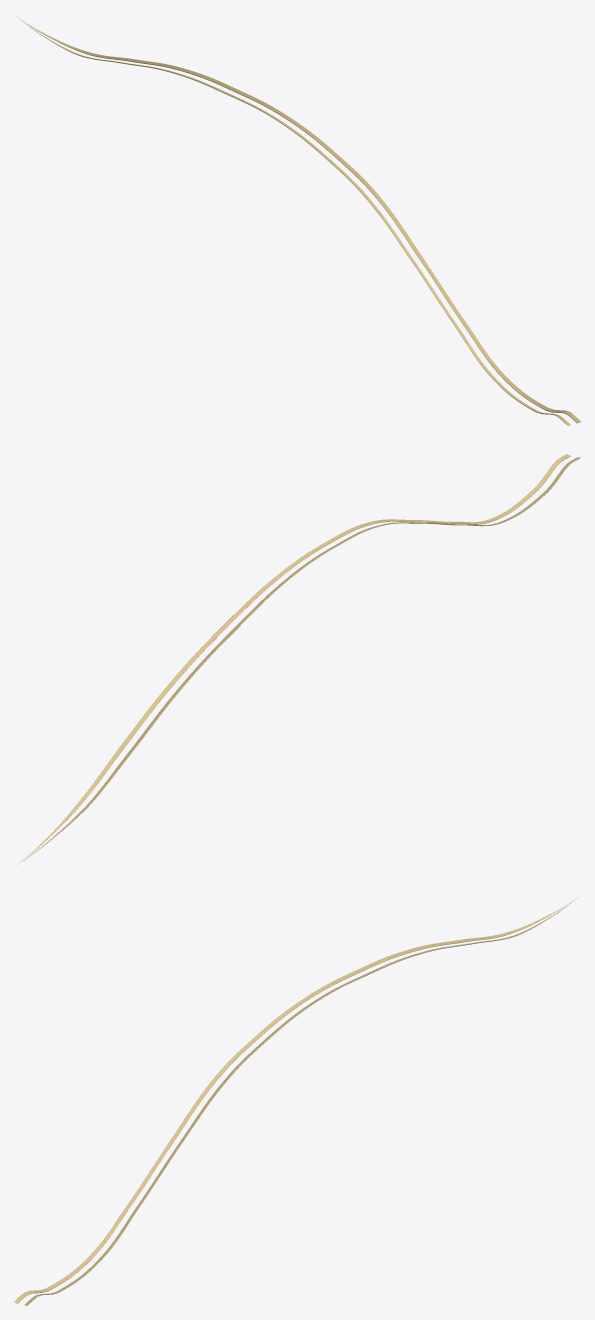
3 renders of one model, top to bottom at view 1: azimuth 30°, elevation 25°; view 2: azimuth 150°, elevation 25°; view 3: azimuth 330°, elevation 25°, orthographic.
Parts seen in each view (by area): view 1: 内侧网状脊髓束; view 2: 内侧网状脊髓束; view 3: 内侧网状脊髓束.
Part boxes in pixels (<box>): 内侧网状脊髓束: <box>16,16,580,425</box>; 内侧网状脊髓束: <box>14,454,580,866</box>; 内侧网状脊髓束: <box>14,897,578,1305</box>.
Bounding box in the file's own units: 0.0104 × 0.0756 × 0.7205.
